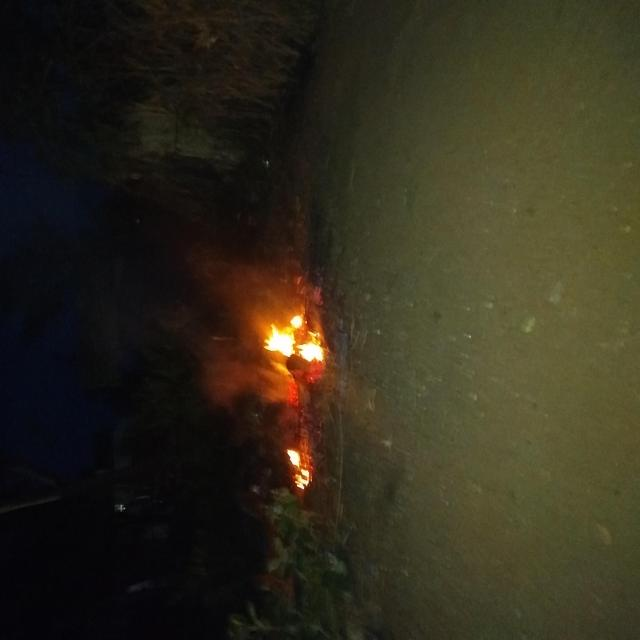Fire: (133, 263, 361, 324)
Smoke: (213, 195, 400, 257)
